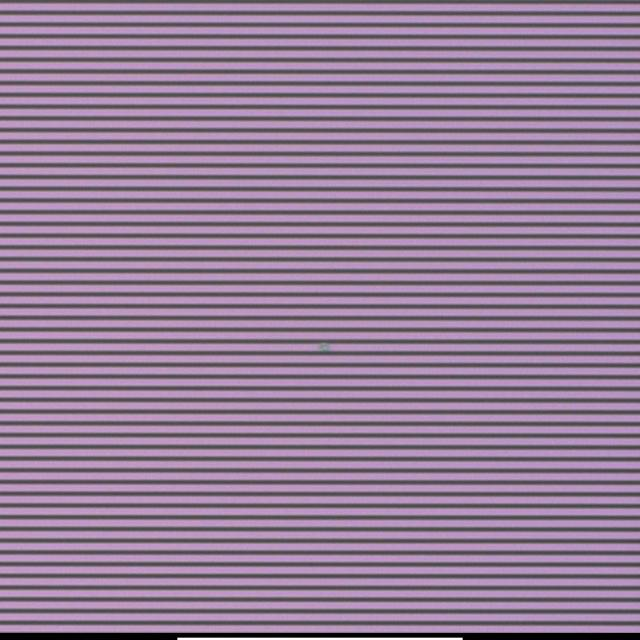nonvisual: (322, 340, 332, 354)
